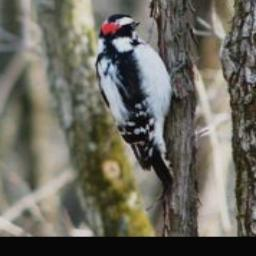Woodpecker: (91, 14, 186, 198)
